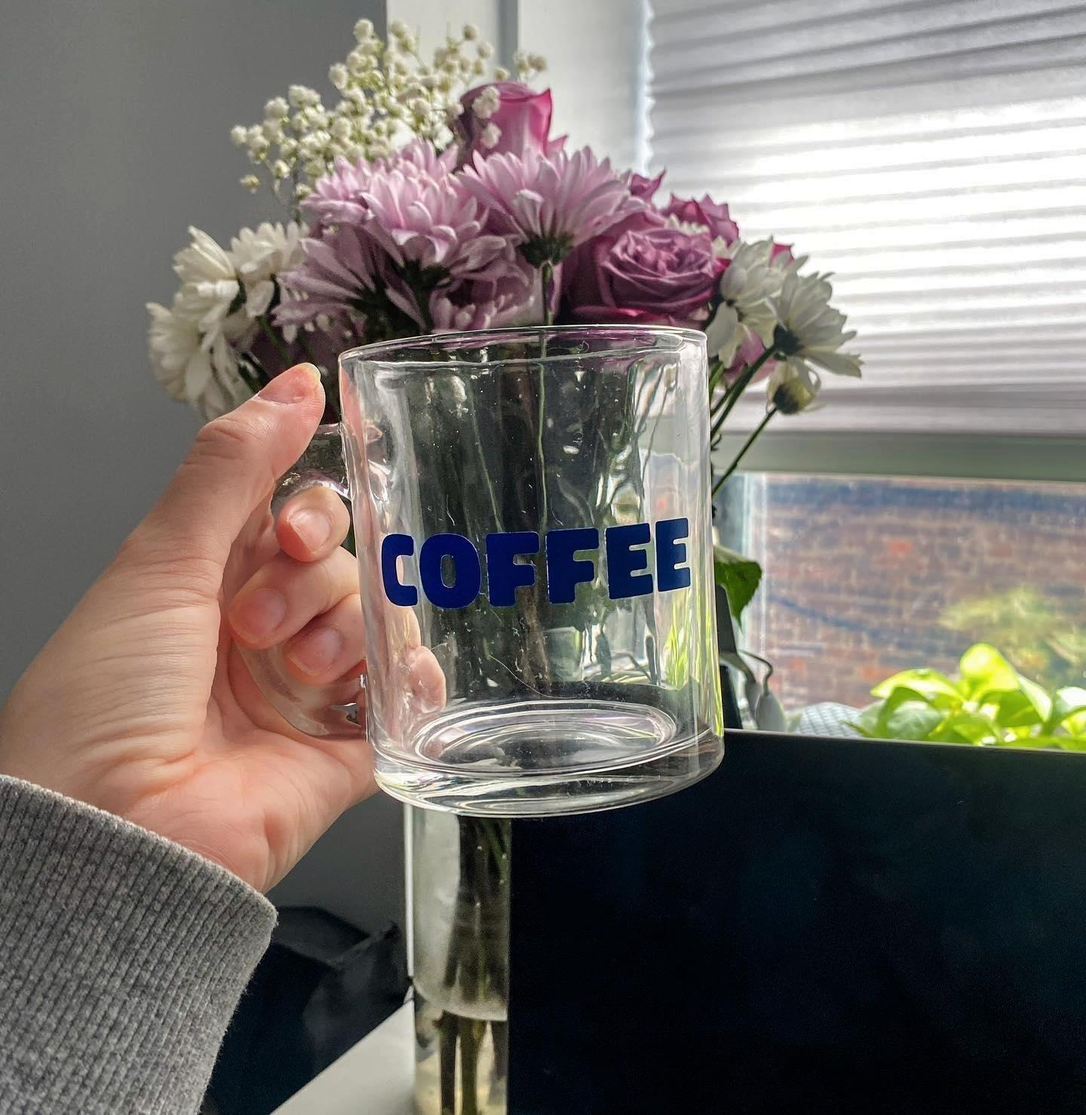glass-mug: (232, 310, 735, 831)
